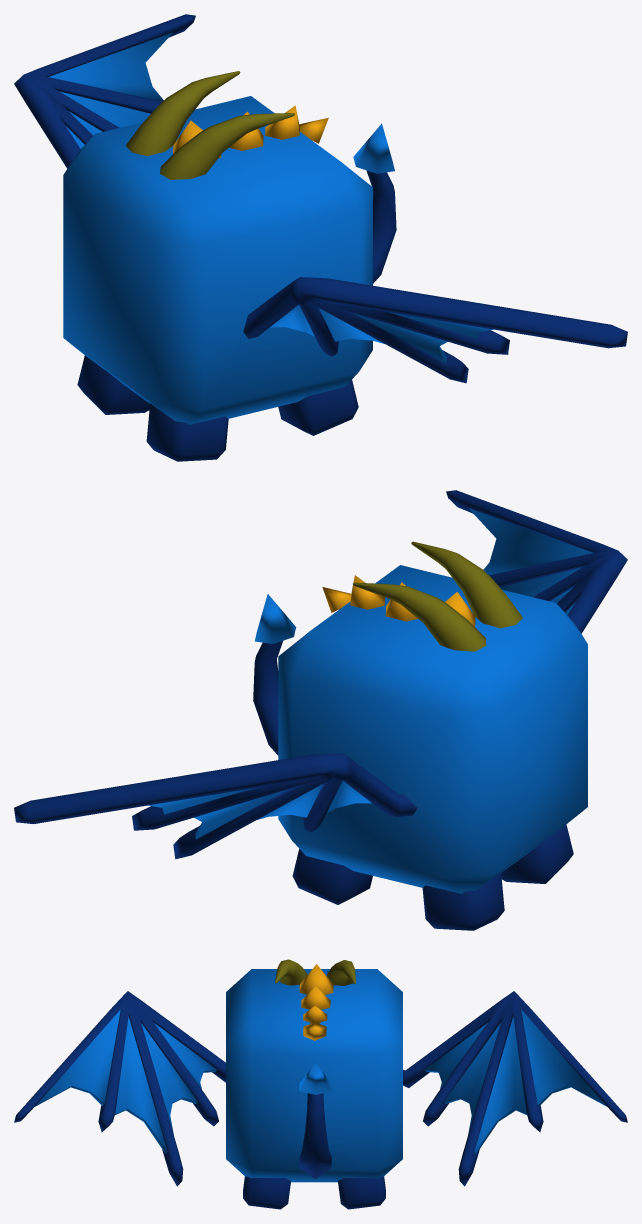
File: IceDragon.obj
3 views of the same model, one above another, from view 1: azimuth 30°, elevation 25°; view 2: azimuth 150°, elevation 25°; view 3: azimuth 270°, elevation 25° (orthographic). The views are drawn at different scales.
Parts seen in each view (by area): view 1: Meshes100kcube1, Meshpart3, Meshes100kcube0031, Meshpart4, Meshpart5, Meshpart2, Meshpart6, Meshpart1; view 2: Meshes100kcube1, Meshpart3, Meshes100kcube0031, Meshpart4, Meshpart5, Meshpart2, Meshpart6, Meshpart1; view 3: Meshes100kcube1, Meshpart3, Meshpart4, Meshes100kcube0031, Meshpart2, Meshpart6, Meshpart5, Meshpart1.
Part boxes in pixels (<box>): Meshes100kcube1: <box>63,96,372,424</box>; Meshpart3: <box>14,14,627,383</box>; Meshes100kcube0031: <box>77,355,358,461</box>; Meshpart4: <box>49,32,492,363</box>; Meshpart5: <box>125,71,294,179</box>; Meshpart2: <box>366,170,396,283</box>; Meshpart6: <box>173,105,328,157</box>; Meshpart1: <box>353,123,394,173</box>; Meshes100kcube1: <box>278,565,587,893</box>; Meshpart3: <box>14,490,627,859</box>; Meshes100kcube0031: <box>292,824,573,930</box>; Meshpart4: <box>148,508,592,839</box>; Meshpart5: <box>353,541,522,651</box>; Meshpart2: <box>253,641,282,755</box>; Meshpart6: <box>322,575,475,628</box>; Meshpart1: <box>255,594,296,643</box>; Meshes100kcube1: <box>226,969,402,1182</box>; Meshpart3: <box>14,991,627,1186</box>; Meshpart4: <box>35,1009,606,1153</box>; Meshes100kcube0031: <box>243,1176,385,1209</box>; Meshpart2: <box>299,1093,331,1179</box>; Meshpart6: <box>299,964,333,1040</box>; Meshpart5: <box>275,959,355,985</box>; Meshpart1: <box>299,1063,331,1094</box>.
Bounding box in the file's own units: 2.51 × 2.47 × 6.19.
